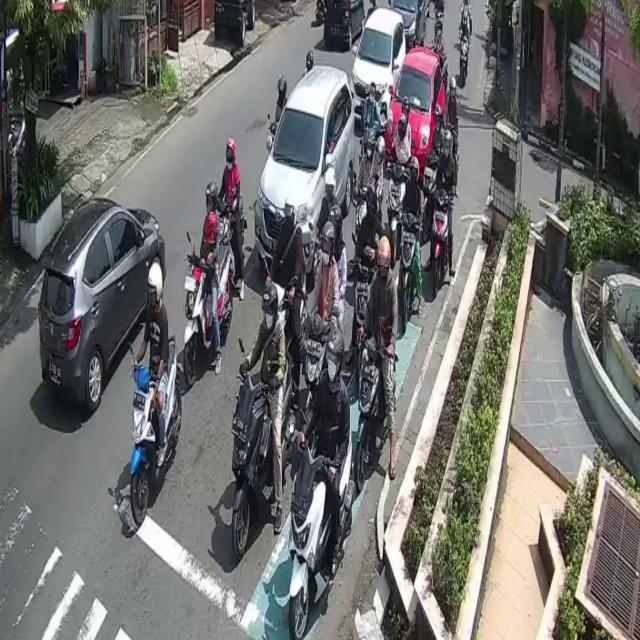car: (40, 197, 166, 415), (255, 63, 356, 273), (386, 46, 446, 180), (358, 1, 412, 118), (323, 0, 365, 46), (399, 0, 430, 52)
motorbike: (289, 411, 354, 640), (233, 360, 295, 559), (130, 332, 182, 527), (181, 240, 231, 385), (359, 343, 399, 489), (397, 212, 418, 333), (430, 191, 450, 300), (459, 31, 470, 89)
